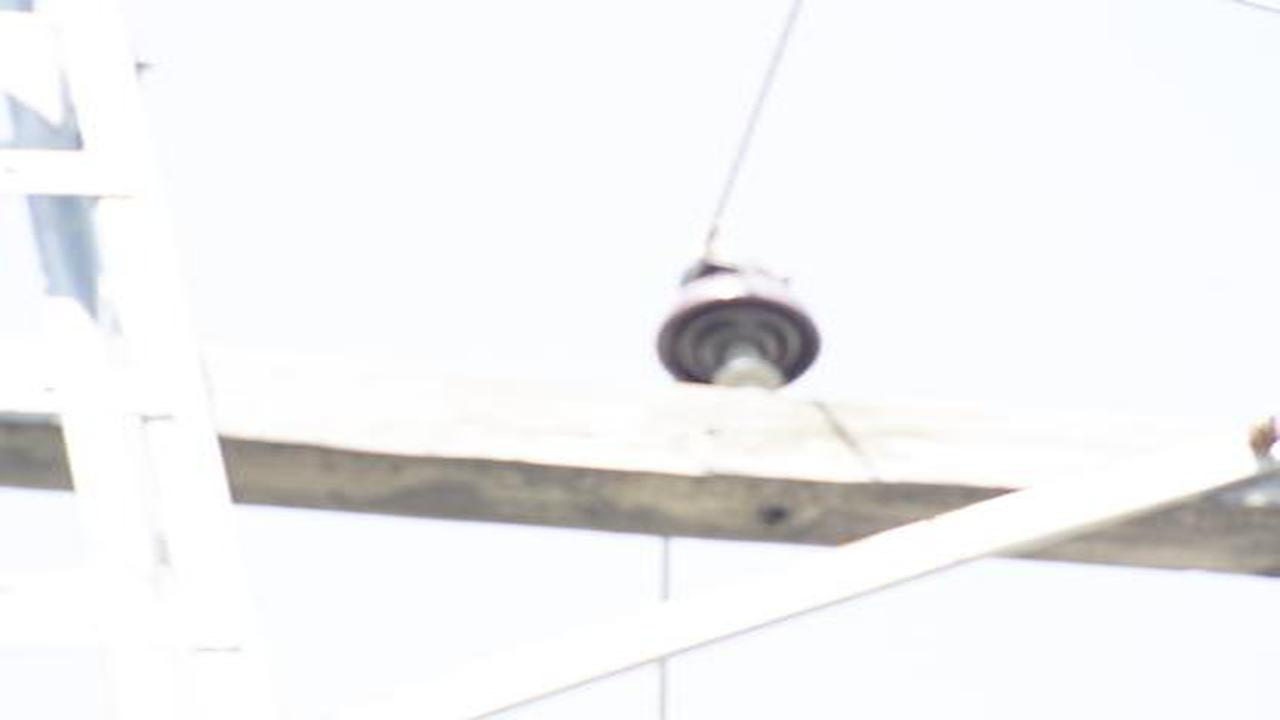insulator_pin: (647, 252, 827, 385)
